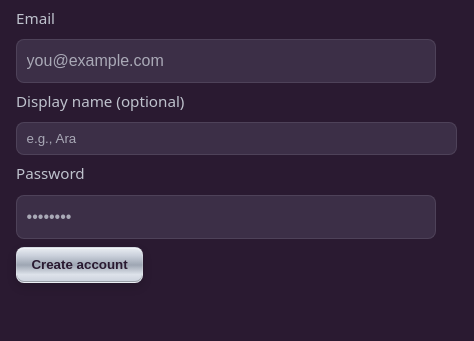
SignupForm › shows status message when signup fails
The width and height of the screenshot is (474, 341).
Type "ara@example.com" into the field labelled "Email".
click(226, 61); type("ara@example.com")  # box [16,39,436,83]
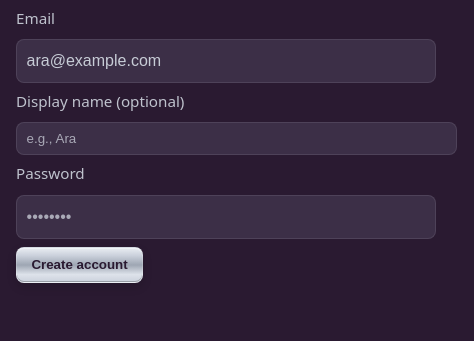
Type "passpass123" into the password field labelled "Password".
click(226, 217); type("passpass123")  # box [16,195,436,239]
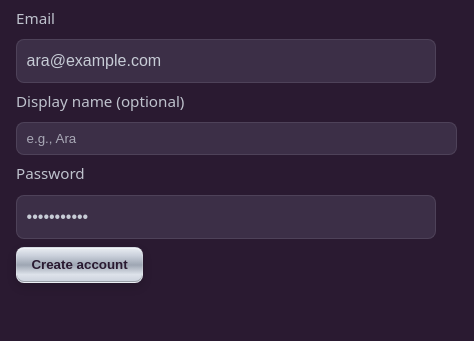
Click the button "Create account".
click(80, 265)  # box [16,247,143,283]
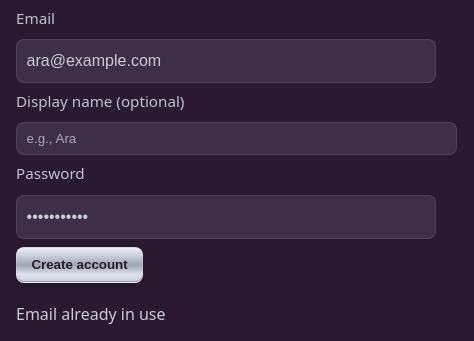
Now the message reads "Email already in use", box [16,303,166,325]
